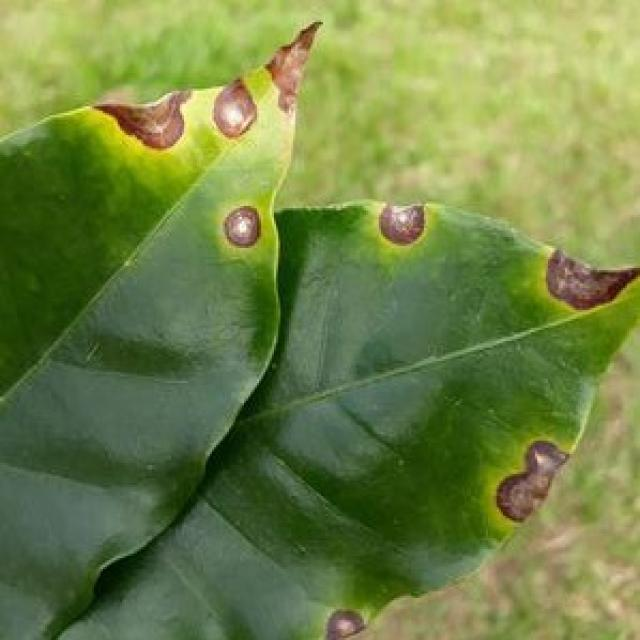Enfermedad-Mancha-de-hierro: (0, 22, 640, 640)
